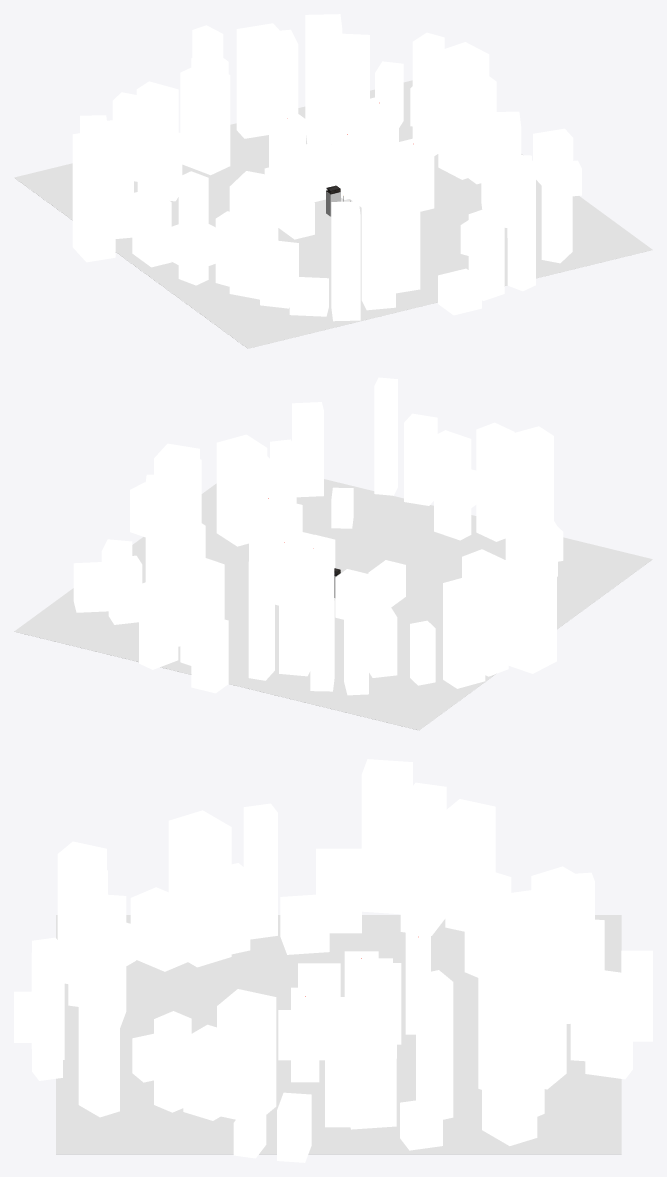
The model's file is intro.glb.
3 renders of one model, top to bottom at view 1: azimuth 30°, elevation 25°; view 2: azimuth 150°, elevation 25°; view 3: azimuth 270°, elevation 25°, orthographic. The views are drawn at different scales.
Parts seen in each view (by area): view 1: Ground, Skyline_19, Skyline_12, Skyline_24, Skyline_9, Skyline_1, Skyline_28, Skyline_7, Skyline_27, Skyline_22, Skyline_6, Skyline_32 (+29 smaller); view 2: Ground, Skyline_19, Skyline_17, Skyline_37, Skyline_29, Skyline_28, Skyline_12, Skyline_8, Skyline_18, Skyline_11, Skyline_9, Skyline_34 (+25 smaller); view 3: Ground, Skyline_24, Skyline_1, Skyline_37, Skyline_18, Skyline_19, Skyline_7, Skyline_17, Skyline_3, Skyline_8, Skyline_34, Skyline_6 (+31 smaller).
Part boxes in pixels (x1,y1,x2,y2): Ground: (14,80,652,348); Skyline_19: (72,129,115,262); Skyline_12: (180,63,230,175); Skyline_24: (229,171,278,299); Skyline_9: (236,23,280,138); Skyline_1: (438,42,489,179); Skyline_28: (361,194,395,310); Skyline_7: (305,14,342,144); Skyline_27: (331,201,360,321); Skyline_22: (178,171,208,285); Skyline_6: (332,33,369,135); Skyline_32: (507,171,535,291); Ground: (14,479,652,730); Skyline_19: (508,540,556,673); Skyline_17: (443,575,485,688); Skyline_37: (216,434,267,546); Skyline_29: (434,430,471,540); Skyline_28: (476,422,514,541); Skyline_12: (279,566,315,676); Skyline_8: (139,575,178,669); Skyline_18: (462,549,508,676); Skyline_11: (248,551,274,680); Skyline_9: (180,554,224,665); Skyline_34: (292,402,323,497); Ground: (56,915,621,1154); Skyline_24: (168,810,231,967); Skyline_1: (344,968,396,1129); Skyline_37: (217,989,276,1119); Skyline_18: (400,782,446,935); Skyline_19: (361,759,412,914); Skyline_7: (506,927,566,1089); Skyline_17: (445,799,495,931); Skyline_3: (416,970,453,1119); Skyline_8: (585,968,632,1079); Skyline_34: (78,995,119,1117); Skyline_6: (478,947,520,1089).
Bounding box in the file's own units: 447 × 110 × 452.
36 materials, 6 textured.
